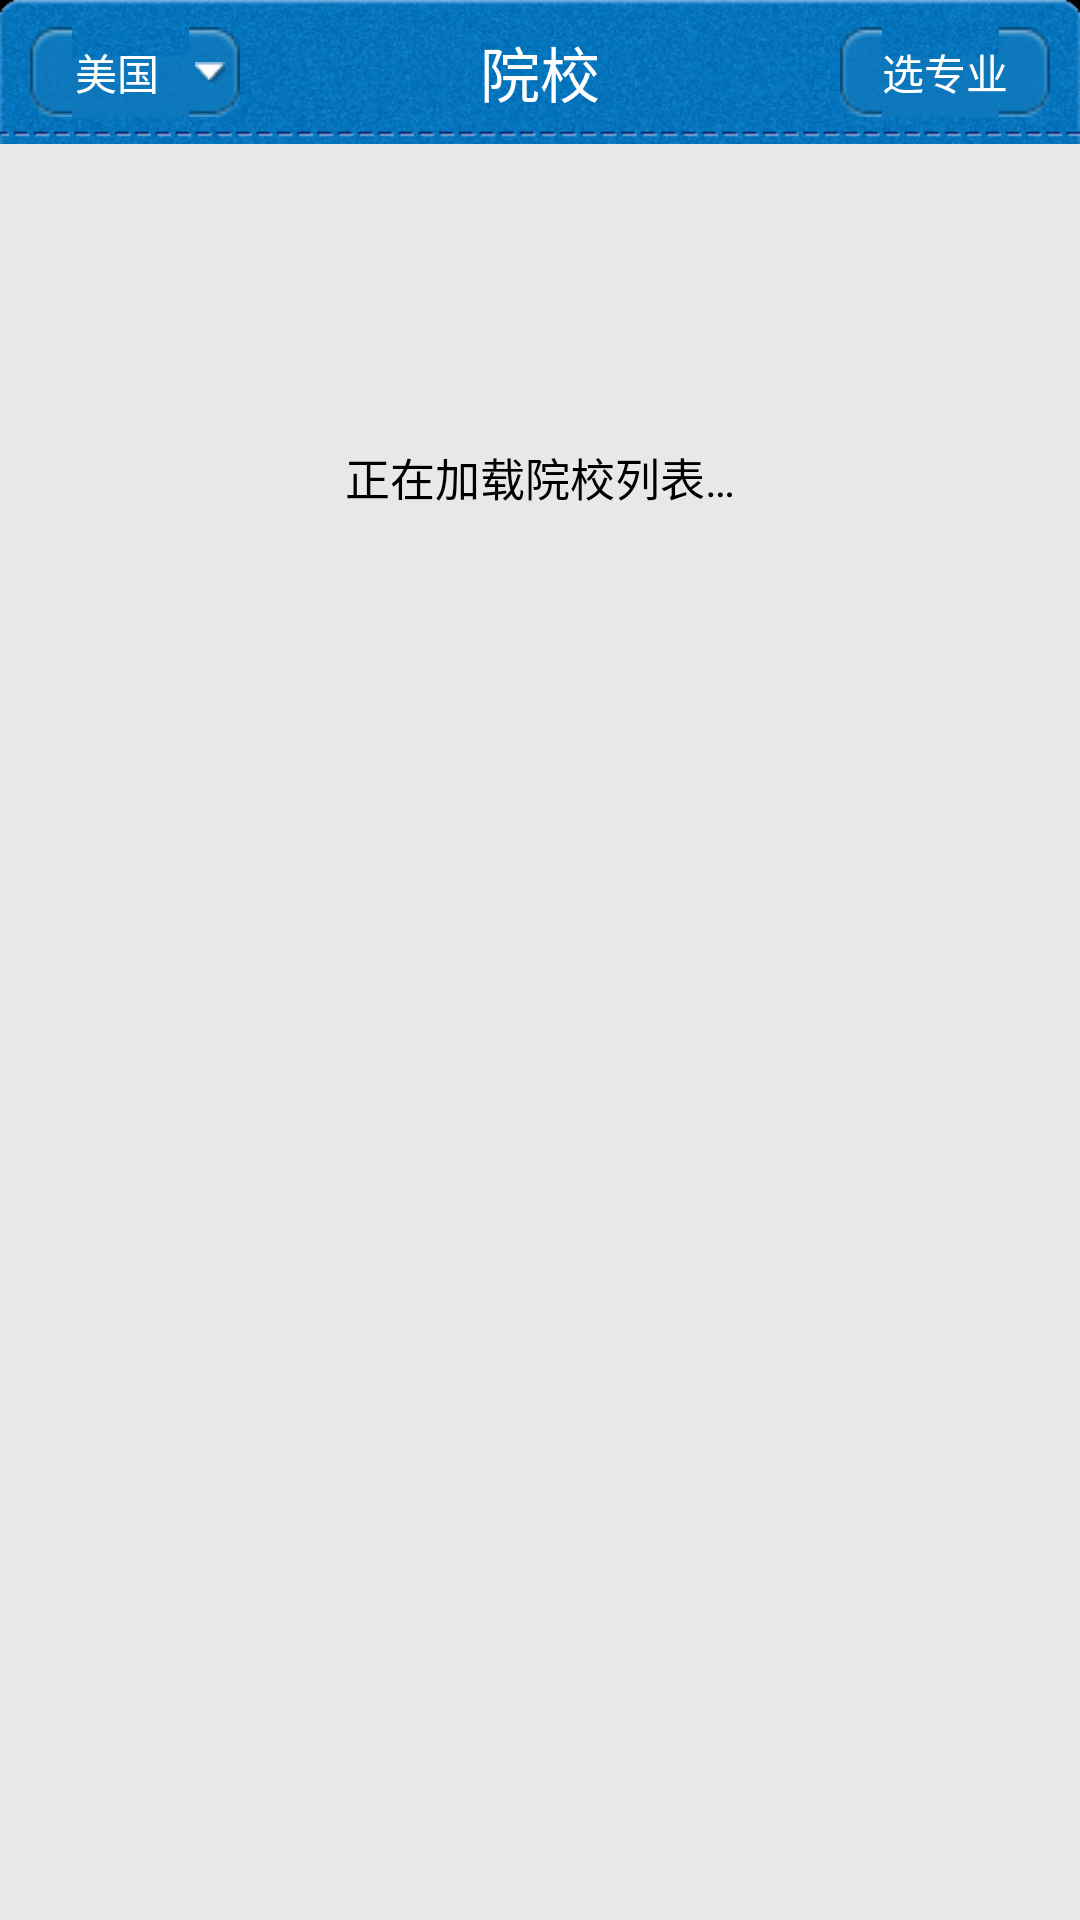

Icon click points for this 1080*1920 phone screenshot, format [x,y]:
title arrow down: [210,72]
